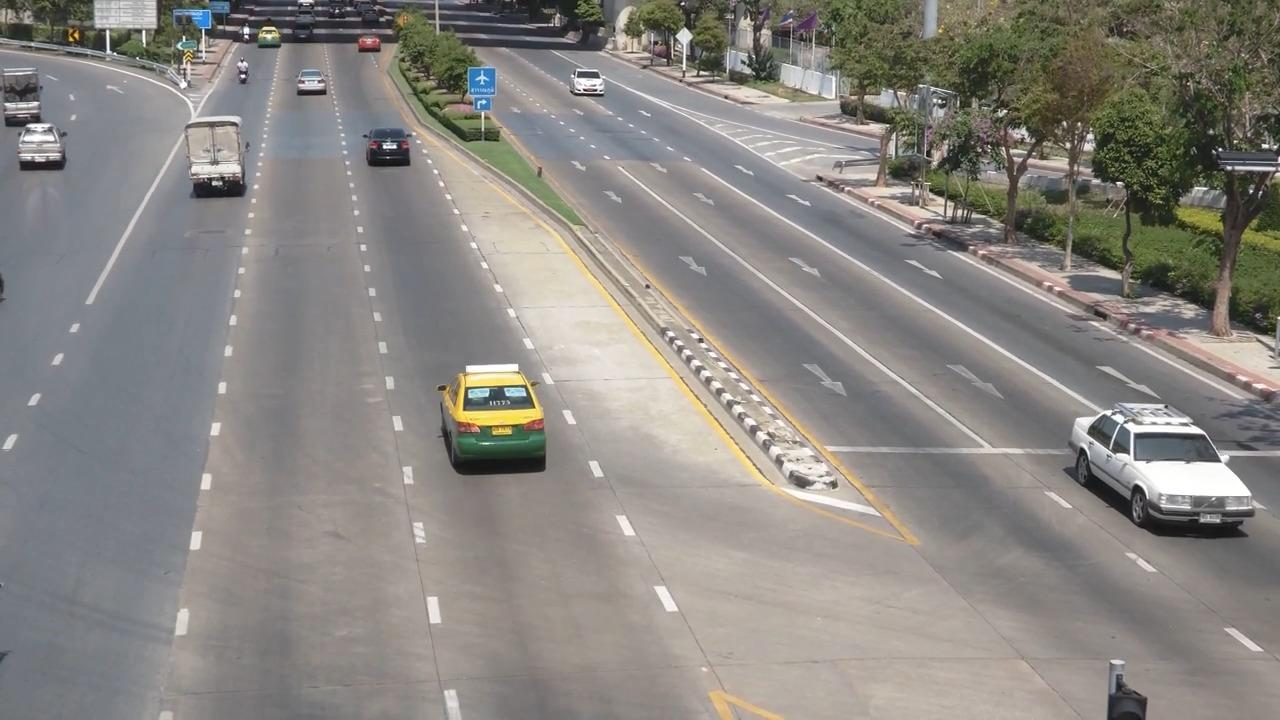CAR: (1059, 388, 1262, 544), (423, 346, 567, 490), (175, 104, 261, 216), (352, 122, 424, 181), (14, 118, 70, 185), (0, 71, 49, 141), (559, 59, 617, 108), (283, 60, 340, 109), (346, 31, 388, 70), (250, 27, 286, 64), (285, 24, 325, 51), (289, 9, 323, 37)
MOTOR: (228, 51, 254, 96)
